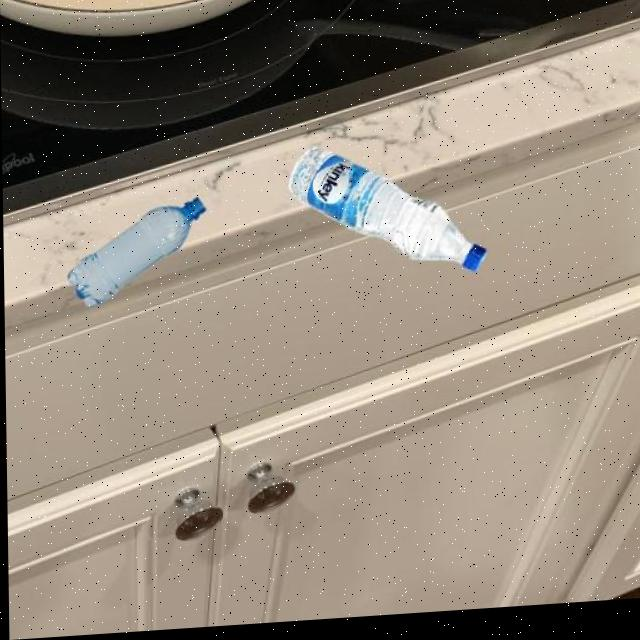bottle: (285, 140, 486, 290), (64, 197, 206, 309)
